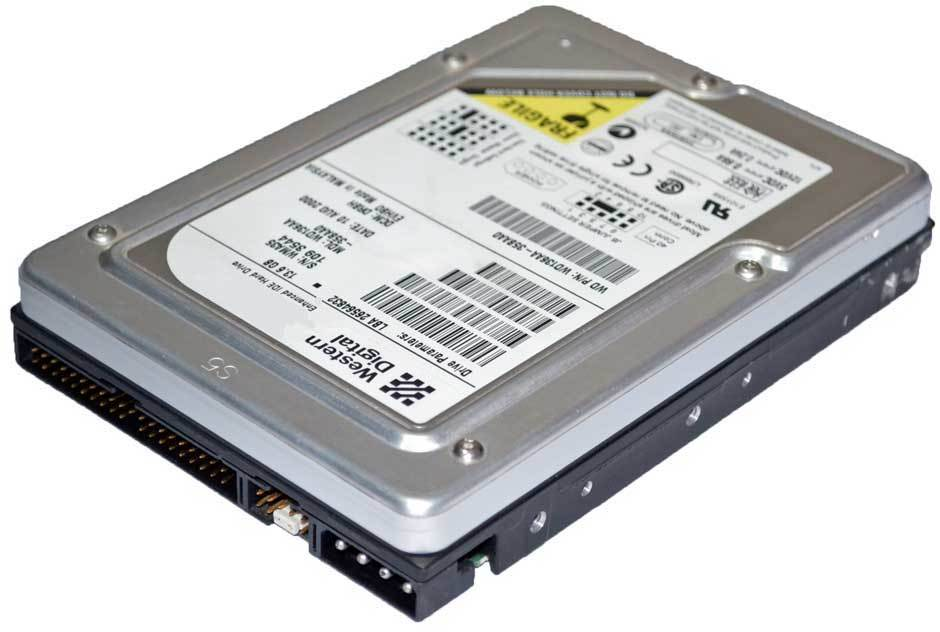IDE Hard Drive: (5, 1, 938, 629)
